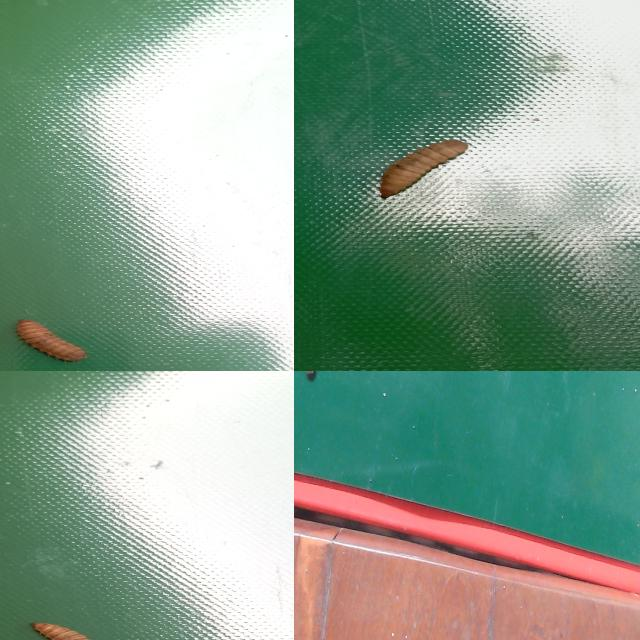Maggot: (378, 139, 468, 200), (15, 320, 86, 364), (37, 625, 86, 640)
